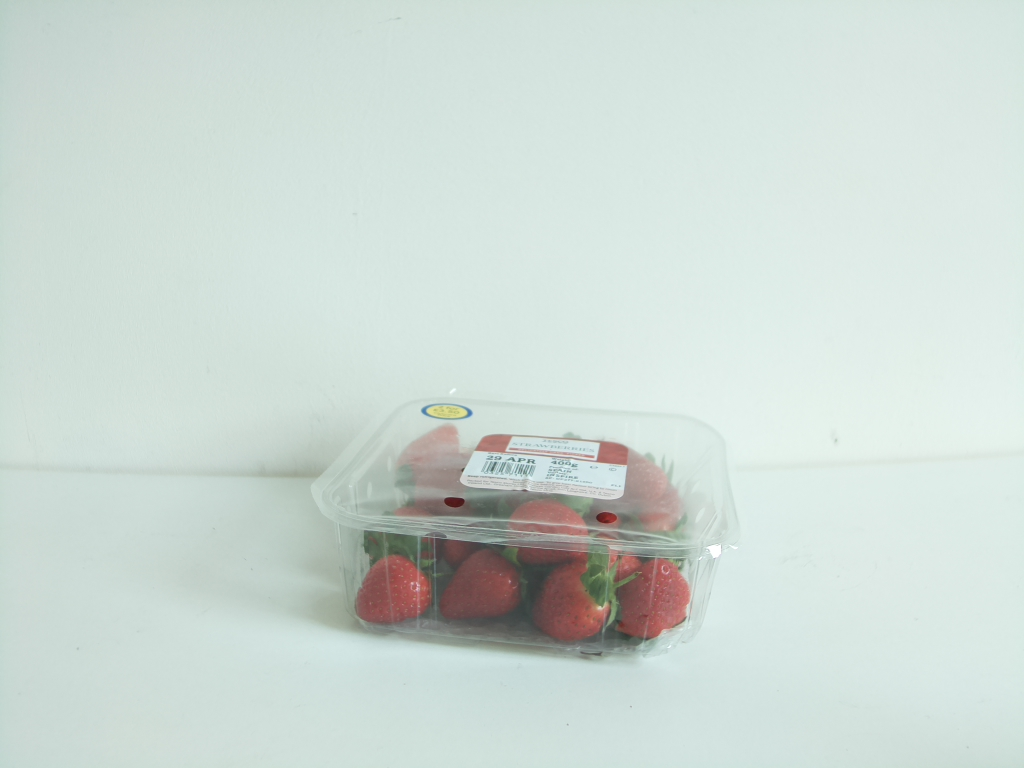soft-fruit: (317, 389, 740, 666)
